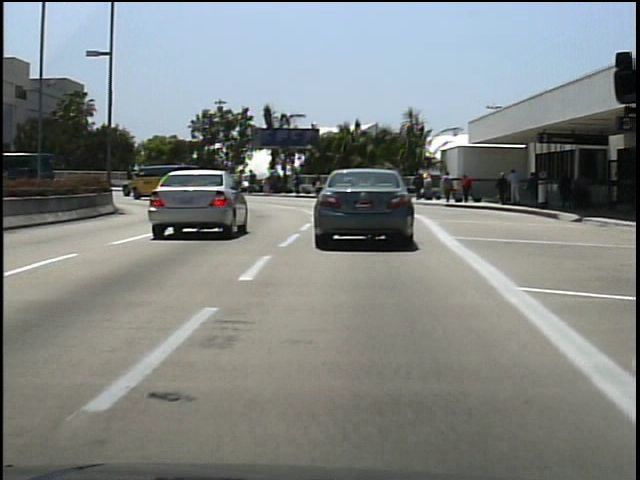person: (573, 168, 593, 217), (555, 164, 574, 212), (507, 166, 524, 208), (459, 173, 477, 209), (494, 170, 511, 206), (524, 169, 540, 207), (443, 169, 458, 203), (411, 169, 426, 202), (123, 162, 137, 192), (187, 169, 203, 194)
